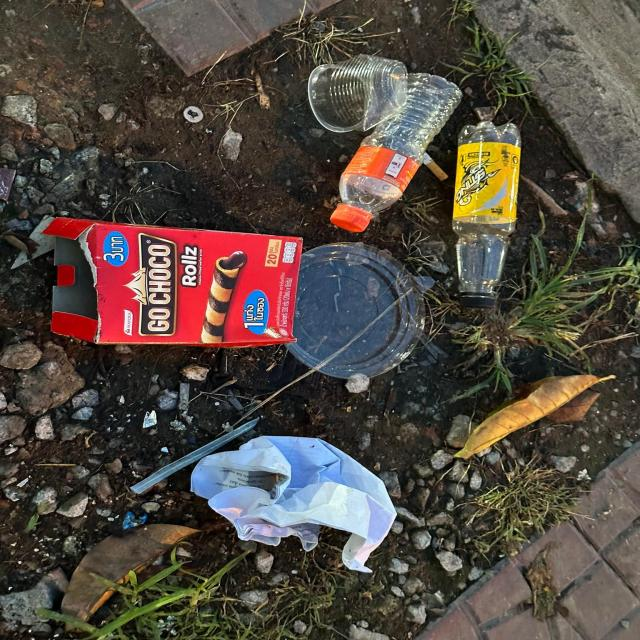bottle: (330, 71, 463, 232), (451, 120, 523, 308)
cardboard box: (44, 216, 305, 349)
drinking straw: (130, 418, 258, 496)
lid: (282, 242, 428, 380)
paper: (188, 433, 398, 574)
plastic glass: (309, 54, 409, 133)
